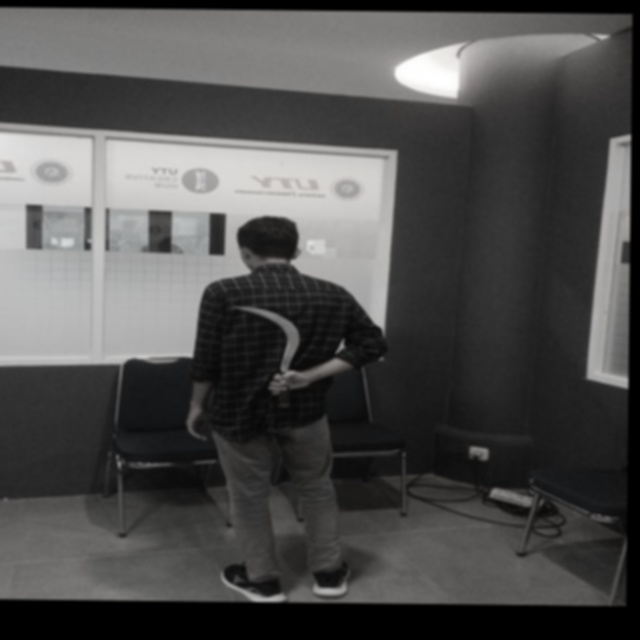Sharp-Object: (222, 298, 325, 401)
